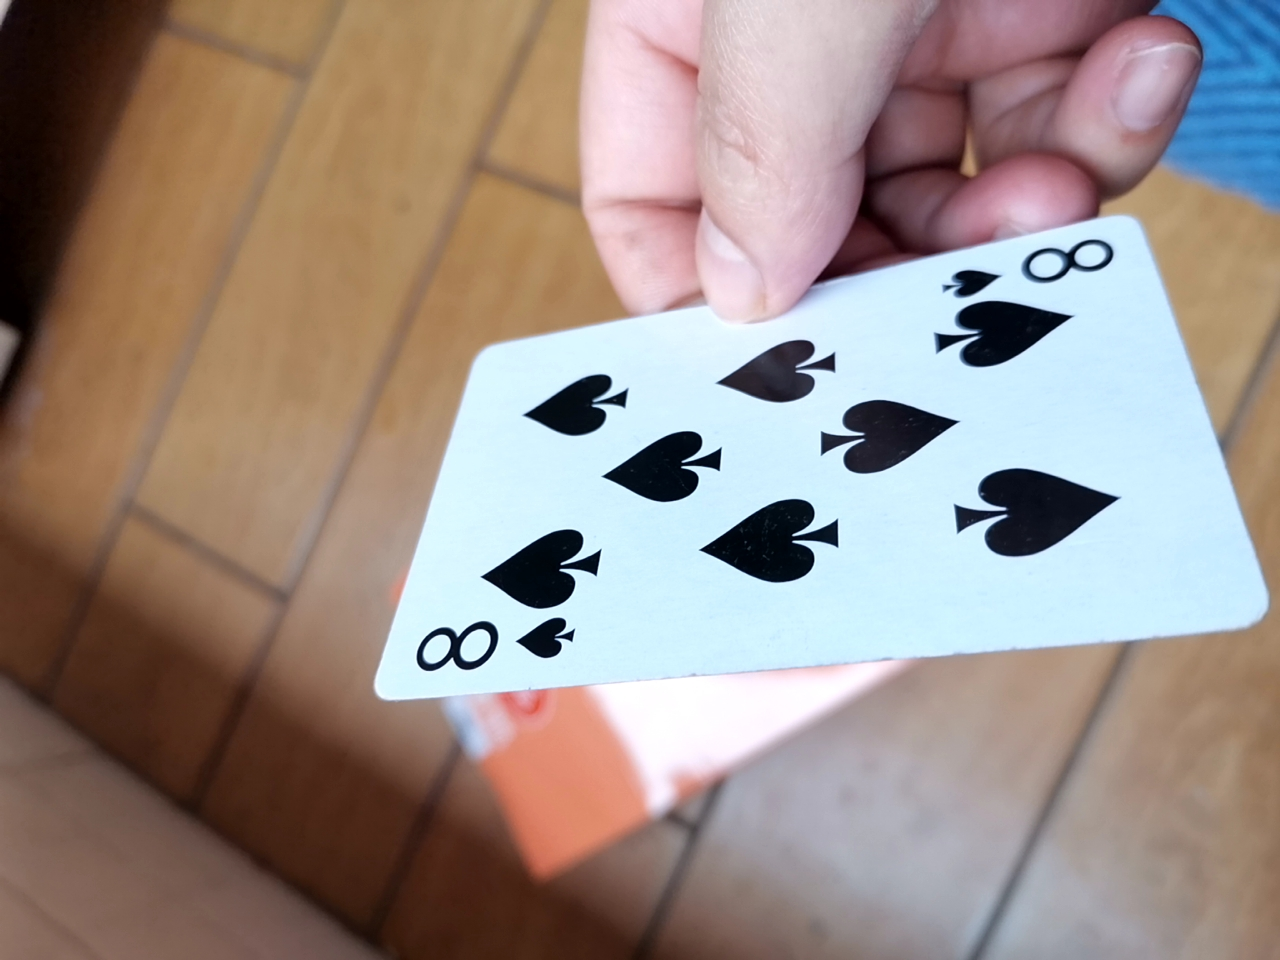ht 8: (357, 211, 1260, 783)
